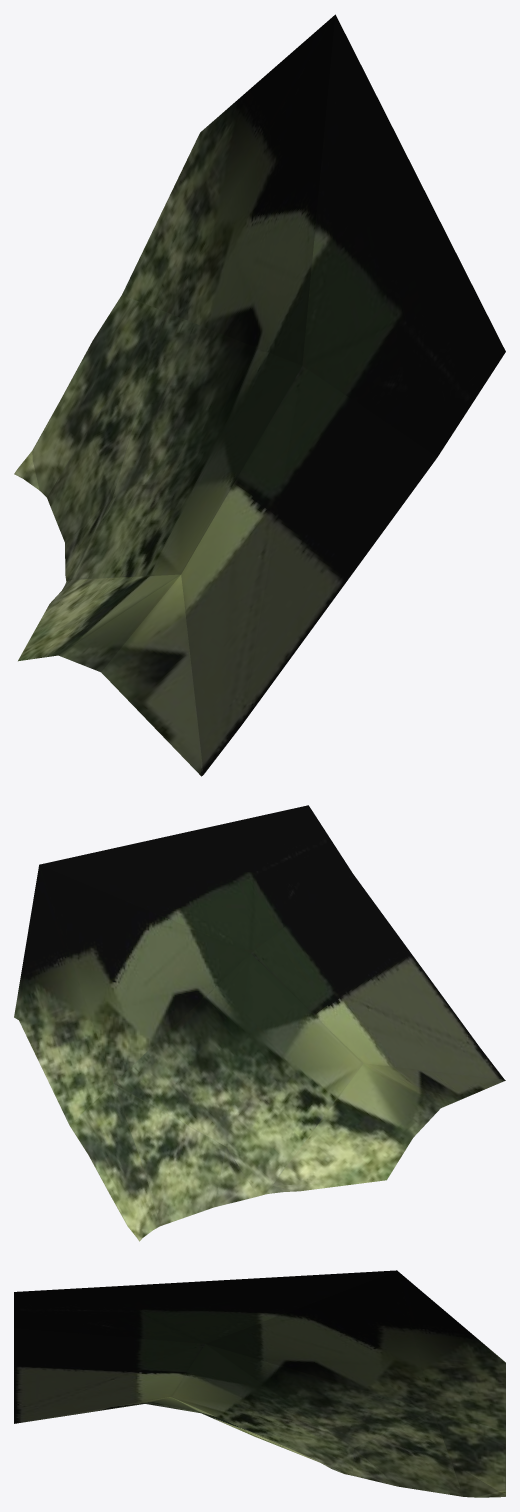
3 renders of one model, top to bottom at view 1: azimuth 30°, elevation 25°; view 2: azimuth 150°, elevation 25°; view 3: azimuth 270°, elevation 25°, orthographic. The views are drawn at different scales.
Size of the model in its own units: 7.73 by 8 by 11.8.
2 materials, 2 textured.
